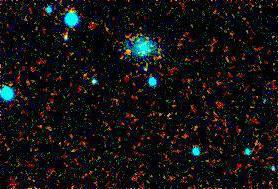star: (115, 37, 145, 67)
